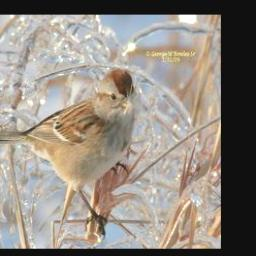Sparrow: (0, 65, 141, 240)
